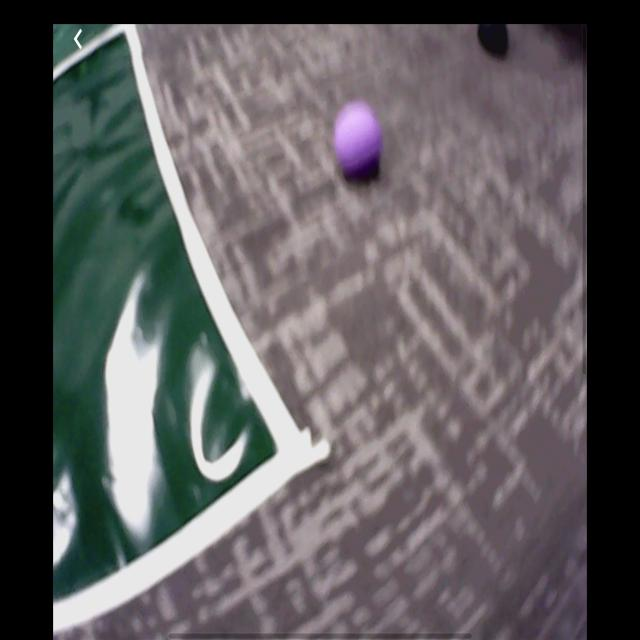ball: (333, 100, 384, 183)
